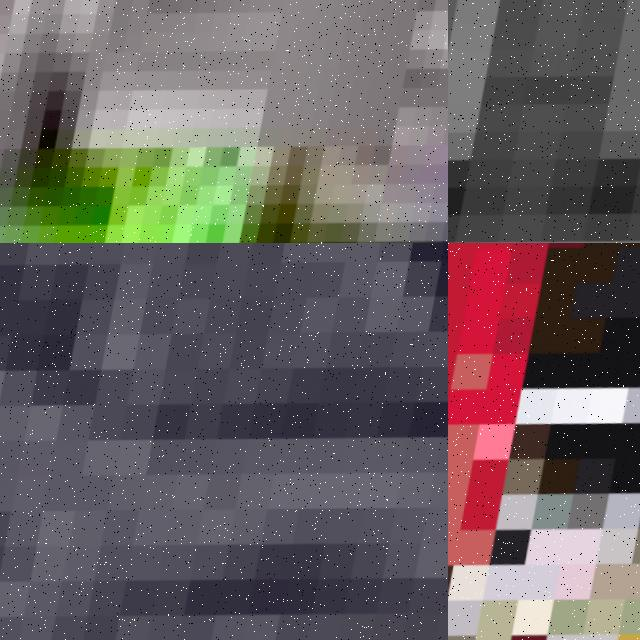0: (0, 0, 448, 243)
drone: (0, 243, 448, 640), (448, 243, 640, 640), (448, 0, 640, 243)
